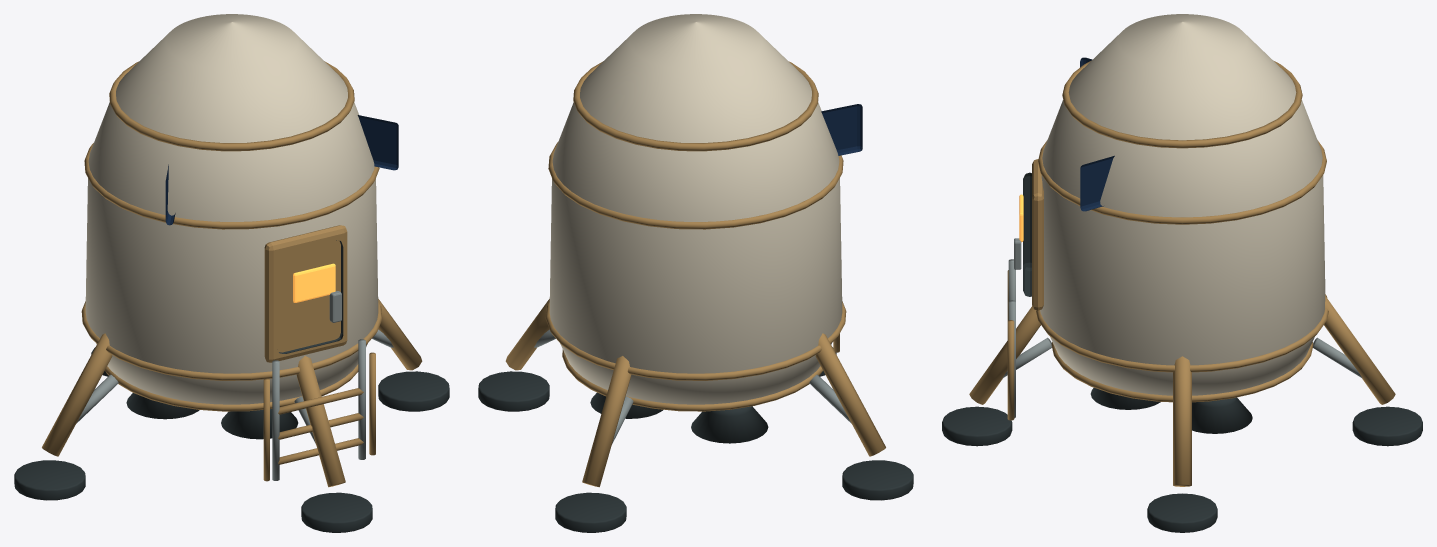
The model's file is shuttle-l02.glb.
3 renders of one model, left to right at view 1: azimuth 30°, elevation 25°; view 2: azimuth 150°, elevation 25°; view 3: azimuth 270°, elevation 25°, orthographic. The views are drawn at different scales.
Parts seen in each view (by area): view 1: H01 batch 00 / Ares S02 / ceramic pressure shell, H01 batch 01 / Ares S02 / brushed bronze, H01 batch 03 / Ares S02 / charcoal seals, H01 batch 02 / Ares S02 / titanium struts, H01 batch 04 / Ares S02 / photovoltaic blue, H01 batch 05 / Ares S02 / warm interior glazing; view 2: H01 batch 00 / Ares S02 / ceramic pressure shell, H01 batch 01 / Ares S02 / brushed bronze, H01 batch 03 / Ares S02 / charcoal seals, H01 batch 04 / Ares S02 / photovoltaic blue, H01 batch 02 / Ares S02 / titanium struts; view 3: H01 batch 00 / Ares S02 / ceramic pressure shell, H01 batch 01 / Ares S02 / brushed bronze, H01 batch 03 / Ares S02 / charcoal seals, H01 batch 02 / Ares S02 / titanium struts, H01 batch 04 / Ares S02 / photovoltaic blue.
Boxes of the visible parts, left/top/right/bottom form: H01 batch 00 / Ares S02 / ceramic pressure shell: left=85, top=14, right=378, bottom=404; H01 batch 01 / Ares S02 / brushed bronze: left=42, top=61, right=422, bottom=487; H01 batch 03 / Ares S02 / charcoal seals: left=14, top=240, right=449, bottom=532; H01 batch 02 / Ares S02 / titanium struts: left=76, top=291, right=393, bottom=480; H01 batch 04 / Ares S02 / photovoltaic blue: left=165, top=115, right=398, bottom=225; H01 batch 05 / Ares S02 / warm interior glazing: left=293, top=263, right=335, bottom=302; H01 batch 00 / Ares S02 / ceramic pressure shell: left=549, top=14, right=842, bottom=404; H01 batch 01 / Ares S02 / brushed bronze: left=505, top=61, right=885, bottom=487; H01 batch 03 / Ares S02 / charcoal seals: left=478, top=347, right=913, bottom=532; H01 batch 04 / Ares S02 / photovoltaic blue: left=821, top=104, right=862, bottom=155; H01 batch 02 / Ares S02 / titanium struts: left=534, top=329, right=851, bottom=443; H01 batch 00 / Ares S02 / ceramic pressure shell: left=1040, top=14, right=1325, bottom=395; H01 batch 01 / Ares S02 / brushed bronze: left=969, top=61, right=1395, bottom=486; H01 batch 03 / Ares S02 / charcoal seals: left=942, top=172, right=1422, bottom=532; H01 batch 02 / Ares S02 / titanium struts: left=1002, top=238, right=1362, bottom=418; H01 batch 04 / Ares S02 / photovoltaic blue: left=1080, top=57, right=1114, bottom=211.
Bounding box in the file's own units: 1.78 × 1.68 × 1.78.
